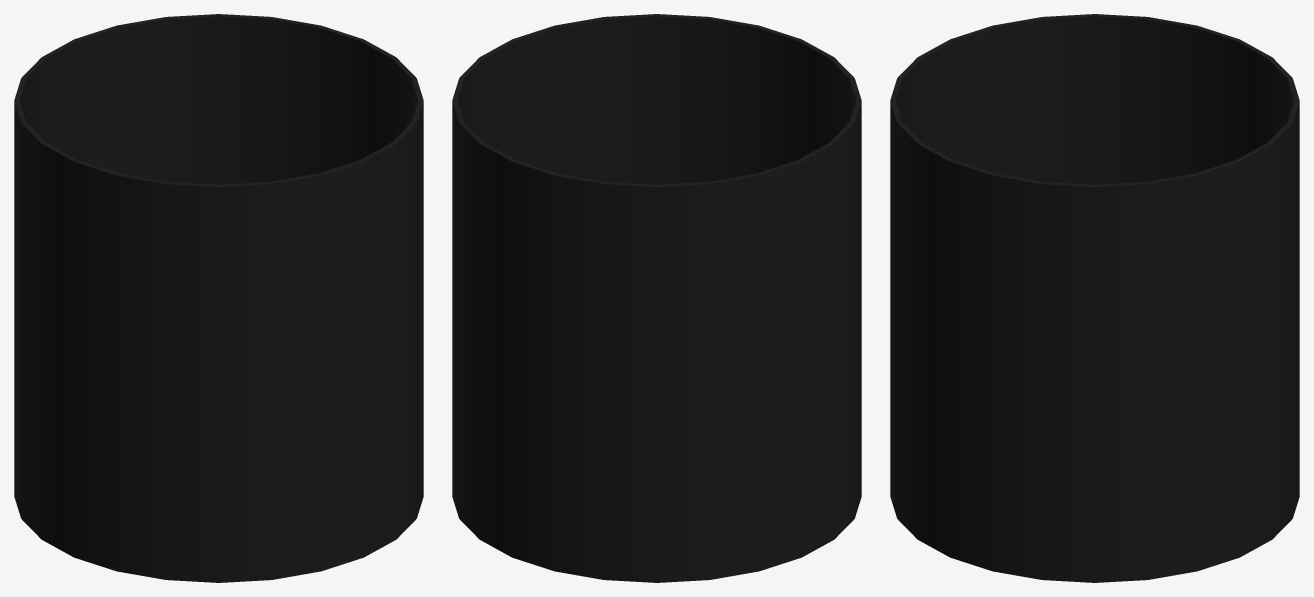
Rendered from aquarius_engine_mount_s1p5_1_fairing4.obj.
3 views of the same model, side by side, from view 1: azimuth 30°, elevation 25°; view 2: azimuth 150°, elevation 25°; view 3: azimuth 270°, elevation 25° (orthographic).
Visible parts, largest first — view 1: fairing4; view 2: fairing4; view 3: fairing4.
Boxes of the visible parts, left/top/right/bottom form: fairing4: left=14, top=14, right=423, bottom=582; fairing4: left=452, top=14, right=861, bottom=582; fairing4: left=890, top=14, right=1299, bottom=582.
Size of the model in its own units: 1.88 by 2 by 1.88.
